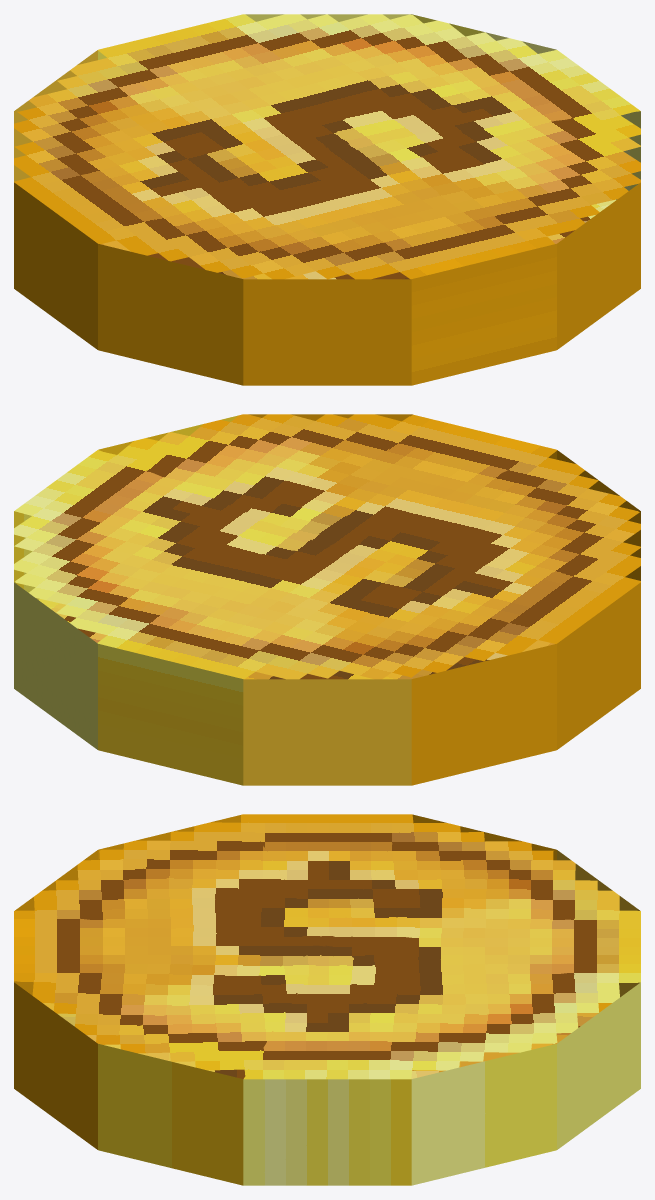
File: coin.obj
3 renders of one model, top to bottom at view 1: azimuth 30°, elevation 25°; view 2: azimuth 150°, elevation 25°; view 3: azimuth 270°, elevation 25°, orthographic.
Parts seen in each view (by area): view 1: cylinder; view 2: cylinder; view 3: cylinder.
Boxes of the visible parts, left/top/right/bottom form: cylinder: left=14, top=14, right=640, bottom=385; cylinder: left=14, top=414, right=640, bottom=785; cylinder: left=14, top=814, right=640, bottom=1185.
Size of the model in its own units: 1 by 0.1875 by 1.
1 material, 1 textured.
